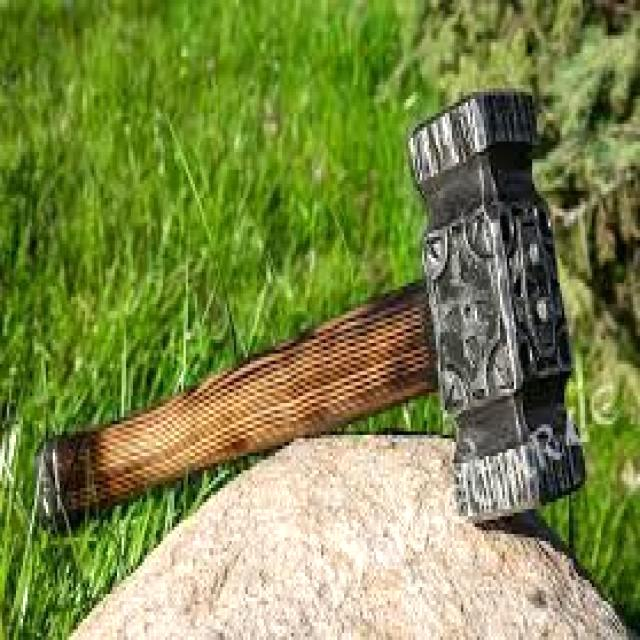hammer: (28, 81, 592, 571)
